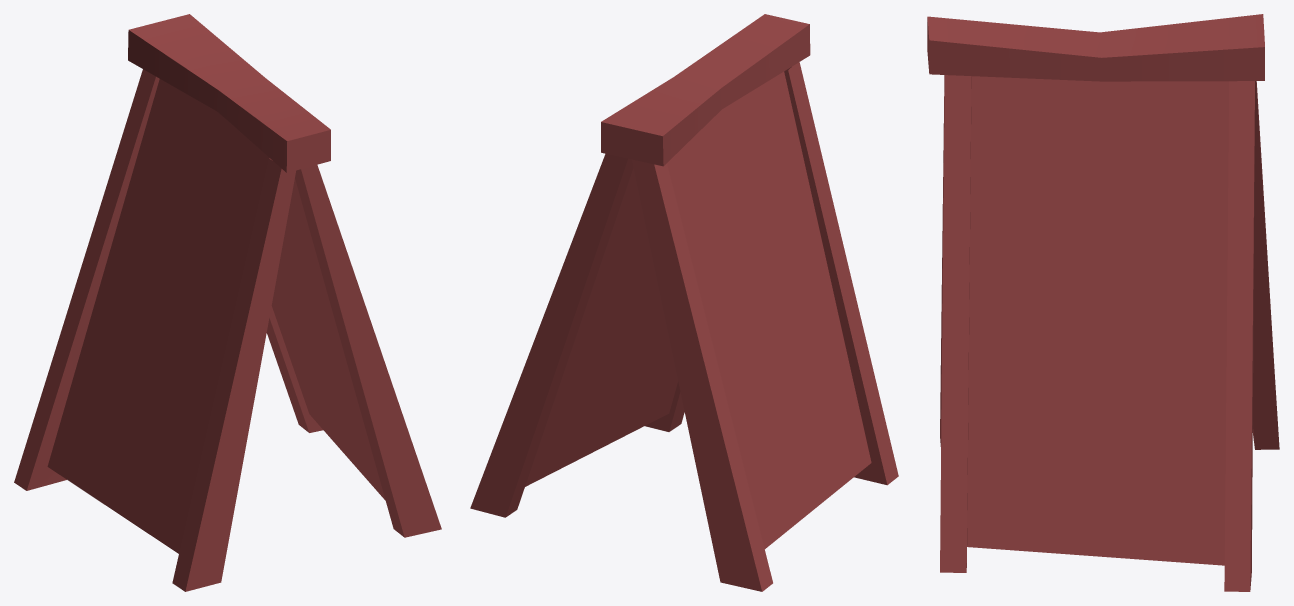
The model's file is SM_AdvertSign_04.fbx.
3 views of the same model, side by side, from view 1: azimuth 30°, elevation 25°; view 2: azimuth 150°, elevation 25°; view 3: azimuth 270°, elevation 25° (orthographic). The views are drawn at different scales.
Visible parts, largest first — view 1: SM_AdvertSign_04; view 2: SM_AdvertSign_04; view 3: SM_AdvertSign_04.
Part boxes in pixels (<box>): SM_AdvertSign_04: <box>14,14,441,591</box>; SM_AdvertSign_04: <box>470,14,898,591</box>; SM_AdvertSign_04: <box>927,14,1279,591</box>.
Size of the model in its own units: 296 by 394 by 267.
